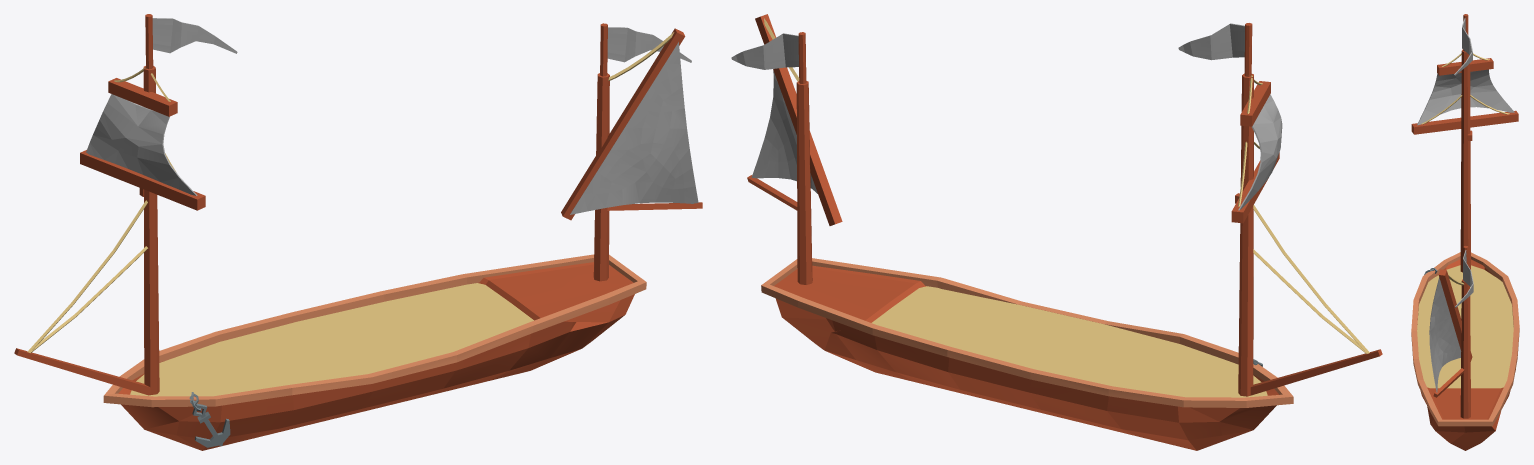
Rendered from Ship_02a.fbx.
3 views of the same model, side by side, from view 1: azimuth 30°, elevation 25°; view 2: azimuth 150°, elevation 25°; view 3: azimuth 270°, elevation 25° (orthographic). The views are drawn at different scales.
Visible parts, largest first — view 1: Ship_02a; view 2: Ship_02a; view 3: Ship_02a.
Boxes of the visible parts, left/top/right/bottom form: Ship_02a: left=14, top=14, right=702, bottom=450; Ship_02a: left=731, top=14, right=1382, bottom=450; Ship_02a: left=1411, top=14, right=1519, bottom=450.
Bounding box in the file's own units: 3222 × 2062 × 667.
